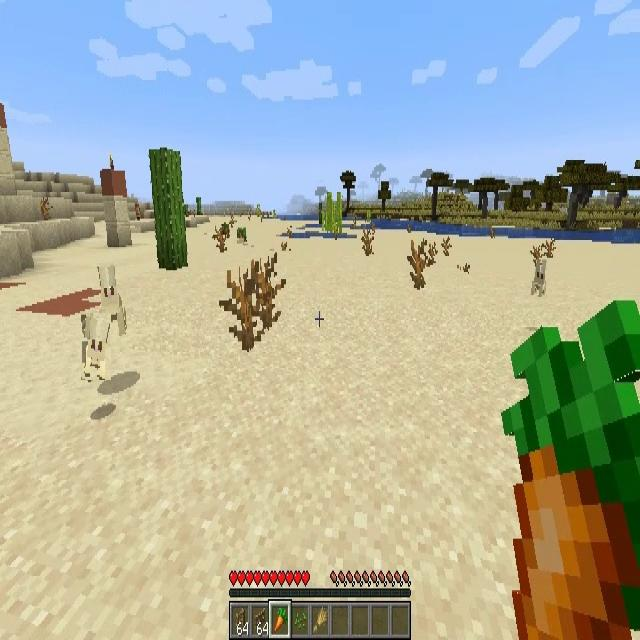rabbit: (96, 267, 128, 332), (81, 313, 111, 380), (530, 255, 547, 300)
